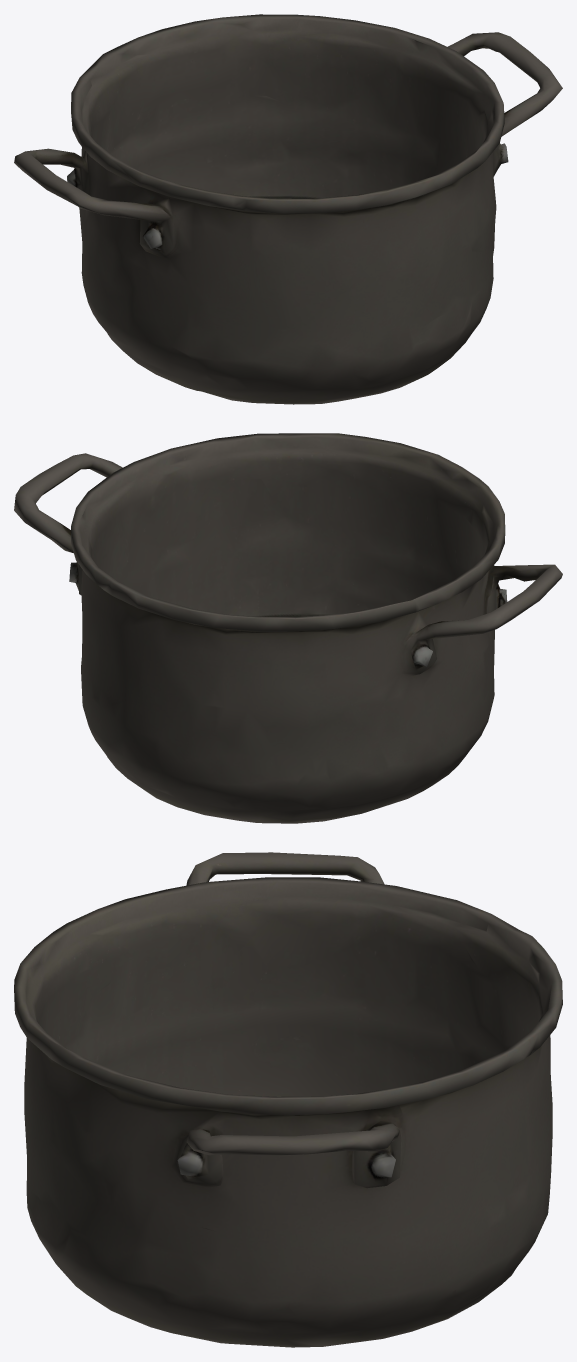
File: pot-v1.glb
3 renders of one model, top to bottom at view 1: azimuth 30°, elevation 25°; view 2: azimuth 150°, elevation 25°; view 3: azimuth 270°, elevation 25°, orthographic. The views are drawn at different scales.
Visible parts, largest first — view 1: node_a3b71fea-e22d-4a58-adbf-a3e0105e9950; view 2: node_a3b71fea-e22d-4a58-adbf-a3e0105e9950; view 3: node_a3b71fea-e22d-4a58-adbf-a3e0105e9950.
Boxes of the visible parts, box(x1,y1,x2,y2) form: node_a3b71fea-e22d-4a58-adbf-a3e0105e9950: box(14, 14, 562, 404); node_a3b71fea-e22d-4a58-adbf-a3e0105e9950: box(14, 433, 562, 823); node_a3b71fea-e22d-4a58-adbf-a3e0105e9950: box(14, 852, 562, 1347).
Bounding box in the file's own units: 0.45 × 0.1962 × 0.3532.
1 material, 1 textured.
